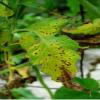Tomato Septoria leaf spot: (21, 19, 92, 92)
